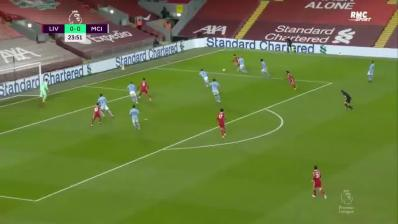football: (221, 66, 227, 72)
player: (309, 162, 330, 202), (215, 107, 229, 140), (97, 93, 114, 119), (136, 77, 152, 104), (127, 104, 143, 130), (38, 78, 52, 104), (210, 79, 224, 105), (126, 80, 140, 104), (284, 70, 300, 91), (258, 57, 272, 81), (89, 103, 102, 128), (367, 58, 378, 86), (197, 69, 212, 87), (238, 56, 250, 74), (232, 54, 240, 70)
referee: (340, 88, 356, 113)
